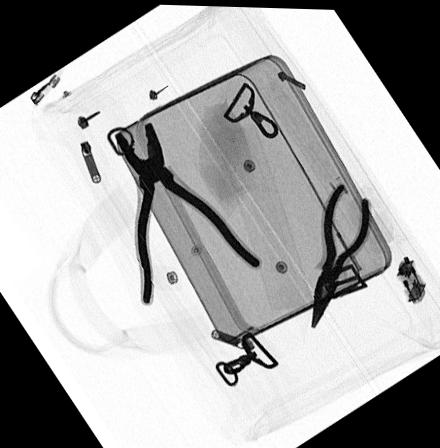Pliers: (108, 121, 260, 305), (309, 178, 372, 329)
